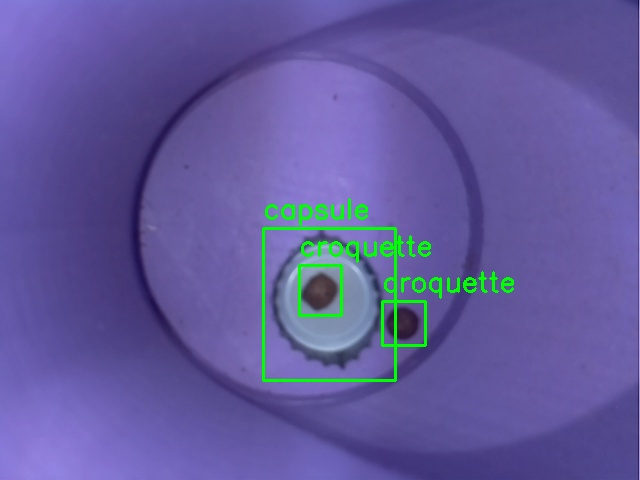capsule: (263, 228, 395, 380)
croquette: (299, 265, 341, 315), (382, 301, 425, 345)
